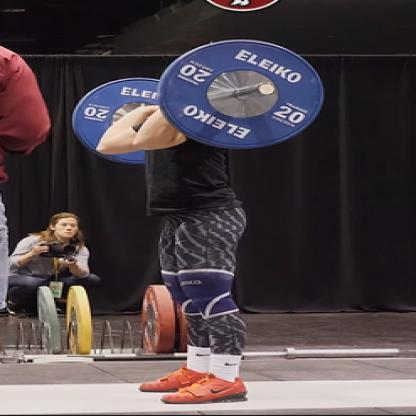barbell: (72, 41, 326, 164)
